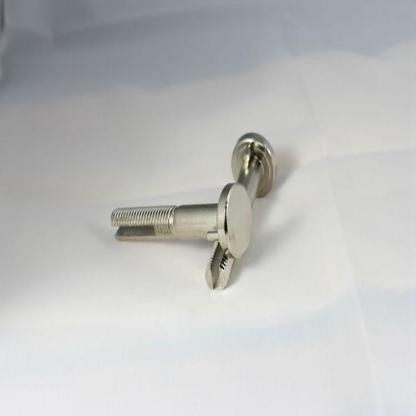FOD: (202, 131, 278, 302), (107, 180, 258, 263)
